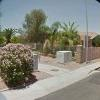Tree: (19, 9, 60, 41)
